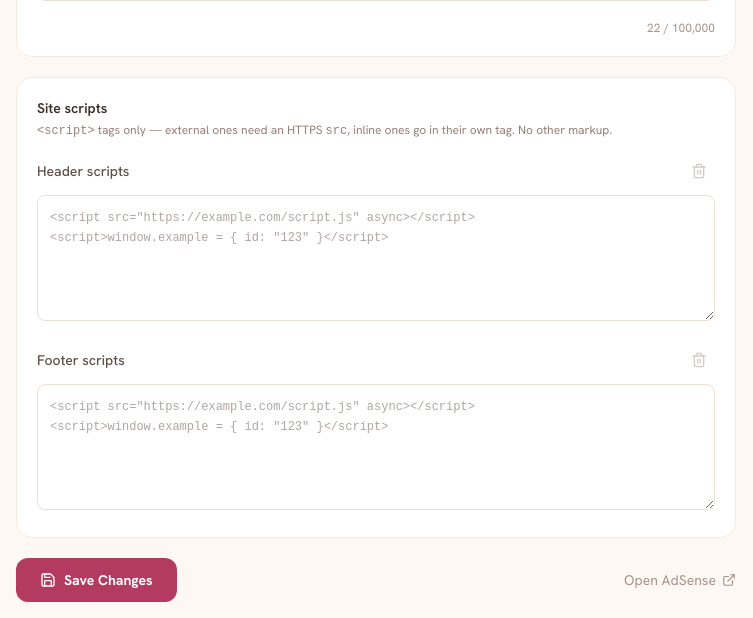
it: AdsAdmin additional ads.txt › rejects non-script markup before saving
(page scrolled)
Replace the text in the text box labelled "Header scripts" with "<img src=\"https://example.com/a\">" at (376, 258), box 37,195 -> 715,321
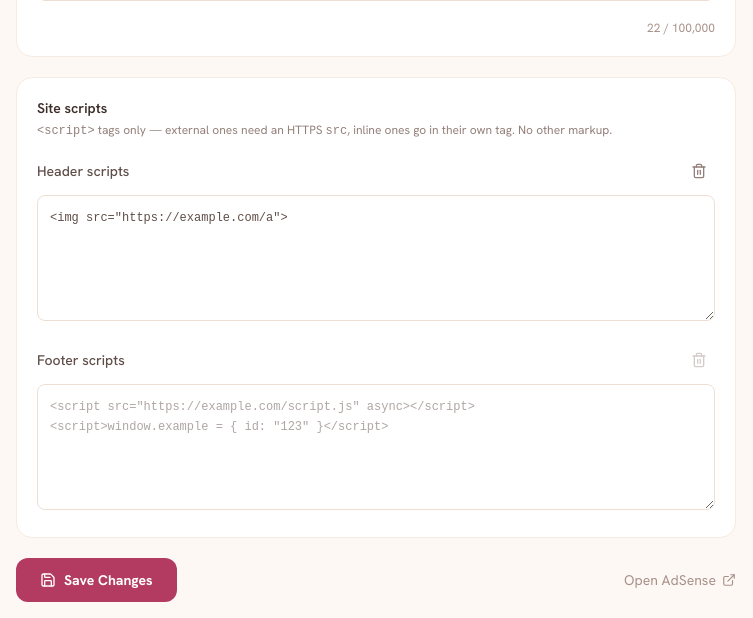
Click the button "Save Changes" at (96, 580), box 16,558 -> 177,602
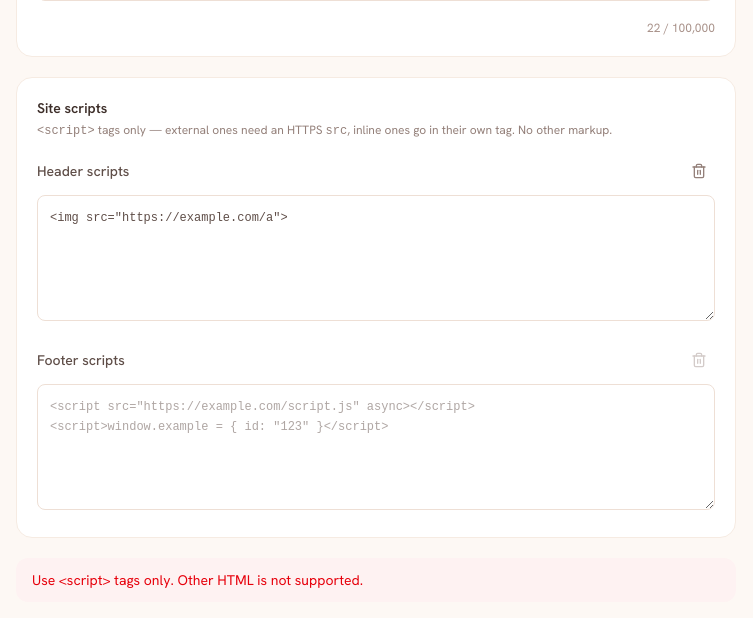
expect the text "Use <script> tags only. Other HTML is not supported." is shown: met, box 16,558 -> 736,602
